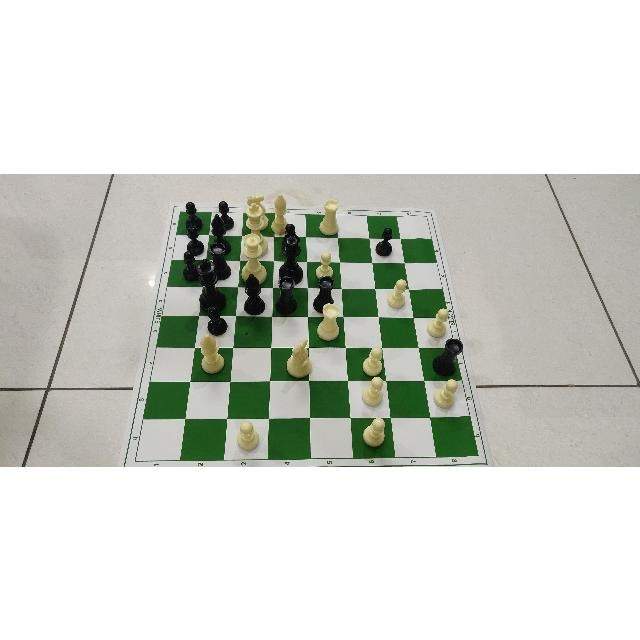black-bishop: (242, 273, 269, 313), (211, 211, 233, 251)
black-king: (198, 258, 233, 304)
black-pawn: (201, 306, 231, 334), (215, 198, 241, 229), (179, 200, 204, 228), (376, 227, 394, 257), (178, 250, 196, 280), (186, 225, 202, 254), (279, 222, 305, 231)
black-queen: (277, 232, 304, 284)
black-rook: (434, 338, 464, 376), (277, 277, 300, 313), (316, 277, 339, 303), (207, 240, 239, 258)
white-bishop: (198, 334, 226, 376), (274, 193, 286, 229)
white-king: (246, 201, 268, 231)
white-knight: (280, 337, 313, 376), (246, 193, 268, 199)
white-pawn: (227, 420, 262, 456), (421, 305, 456, 335), (358, 419, 389, 451), (358, 347, 387, 375), (435, 380, 463, 408), (363, 378, 388, 408), (390, 275, 410, 310), (314, 252, 334, 276)
white-queen: (243, 233, 266, 275)
white-rook: (319, 304, 345, 344), (315, 201, 343, 235)
